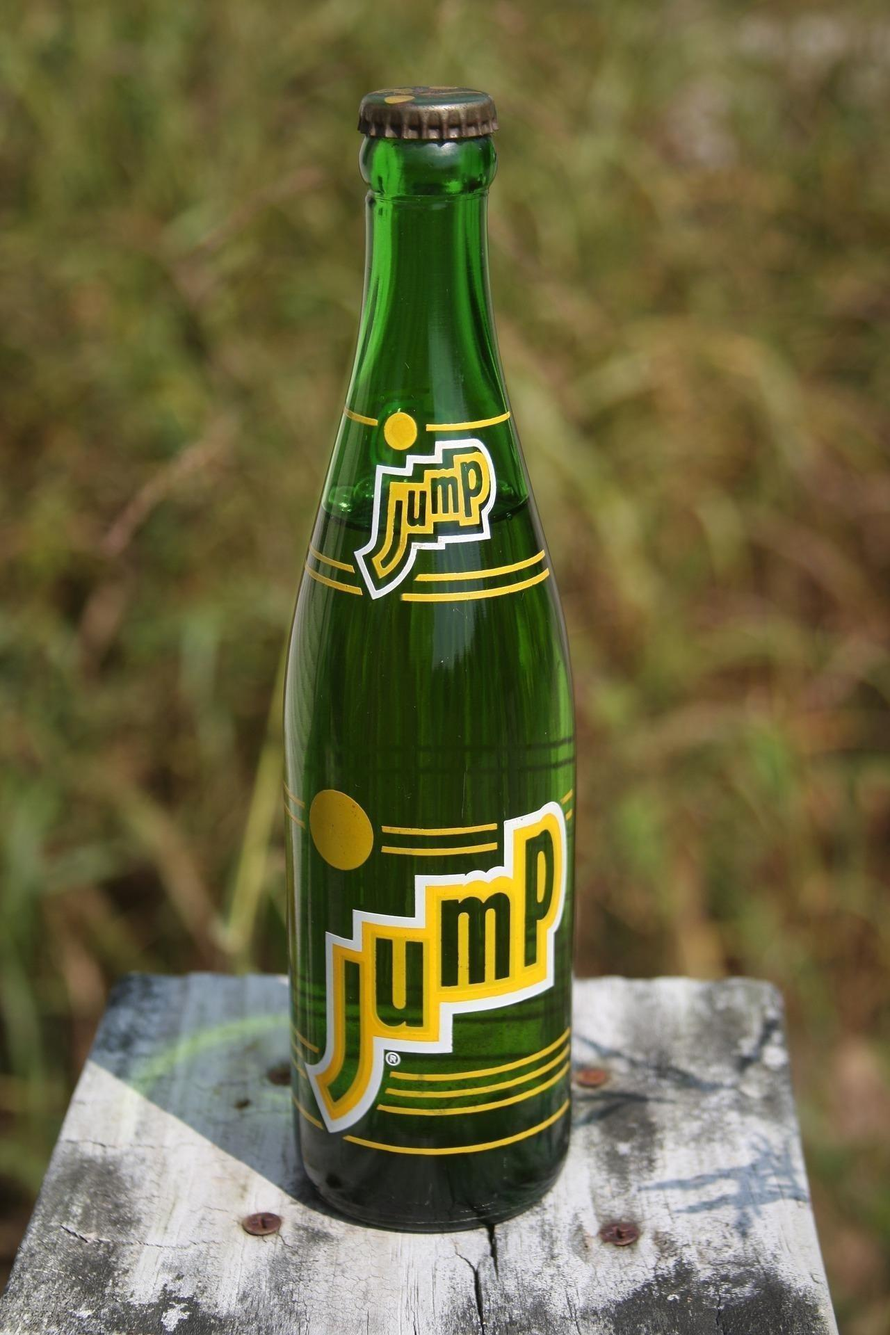bottle-glass: (272, 68, 591, 1242)
